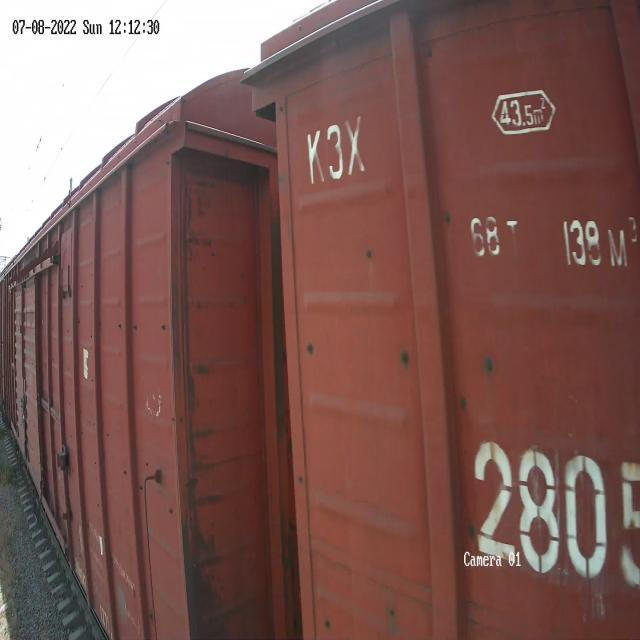boxcar: (237, 0, 640, 640), (0, 46, 294, 640)
